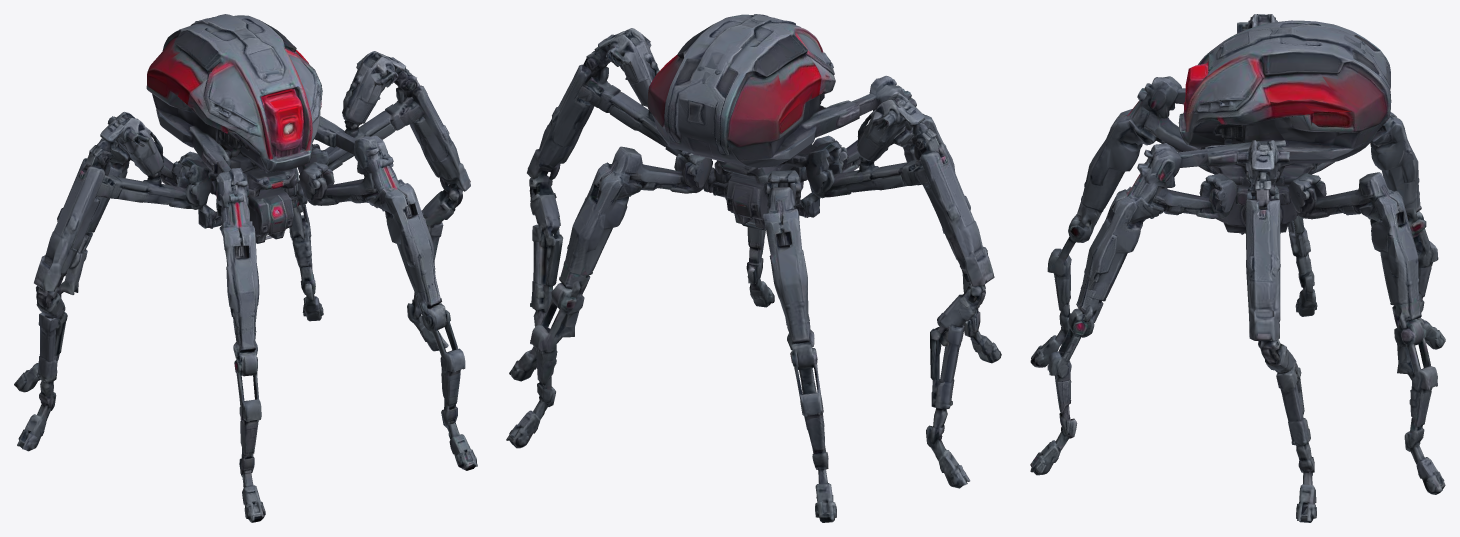
Rendered from t94_spider_lod0.glb.
3 renders of one model, left to right at view 1: azimuth 30°, elevation 25°; view 2: azimuth 150°, elevation 25°; view 3: azimuth 270°, elevation 25°, orthographic. The views are drawn at different scales.
Size of the model in its own units: 4.8 by 4.02 by 3.88.
Materials: 1 (1 with a texture image).
